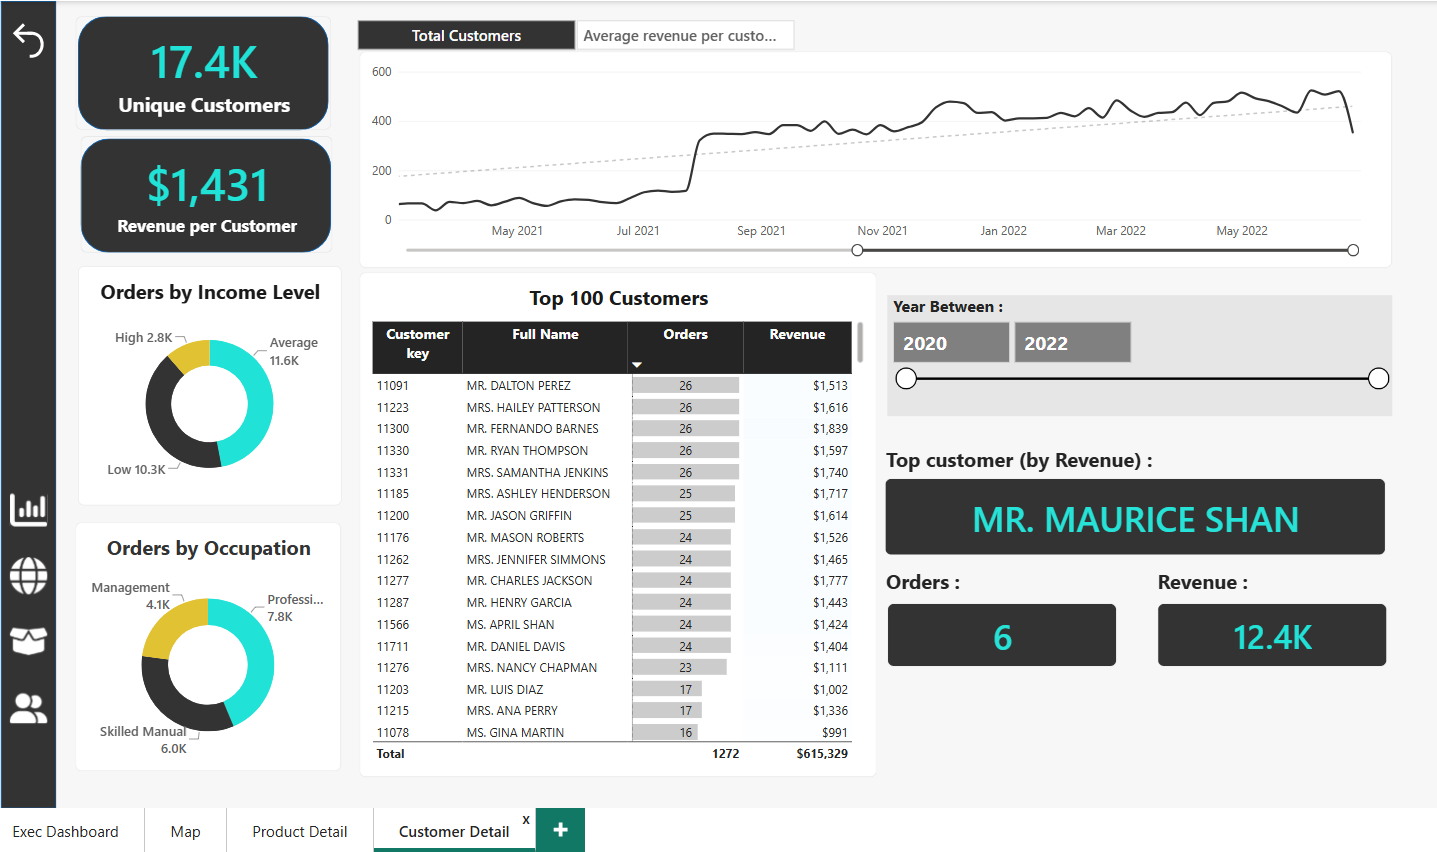

What the dashboard file says about the page in this screenshot:
{"tool":"powerbi","page":{"name":"Customer Detail","canvas":[1920,1080],"ordinal":3},"visuals":[{"type":"shape","box":[102.5,20,335,152.5],"z":0},{"type":"actionButton","box":[0,641.3,74.5,78.3],"z":0,"group":"g1"},{"type":"shape","box":[106.4,183.4,335,152.5],"z":1000},{"type":"actionButton","box":[0,817.5,74.5,78.3],"z":1000,"group":"g1"},{"type":"cardVisual","fields":{"Data":[" Measures_Table.Total Customers"]},"box":[100,20,342.5,152.5],"z":2000},{"type":"actionButton","box":[0,729.4,74.5,78.3],"z":2000,"group":"g1"},{"type":"cardVisual","fields":{"Data":[" Measures_Table.Average revenue per customer"]},"box":[106.2,180.8,337.3,156.5],"z":3000},{"type":"actionButton","box":[0,905.6,74.5,78.3],"z":3000,"group":"g1"},{"type":"shape","title":"Left Nav Pannel","box":[0,0,74,1080],"z":4000},{"type":"lineChart","title":"Weekly Customers","fields":{"Category":["Calendar Lookup.Start of week","Calendar Lookup.Date Hierarchy.Start of year","Calendar Lookup.Date Hierarchy.Start of month","Calendar Lookup.Date Hierarchy.Start of week","Calendar Lookup.Date Hierarchy.Date"],"Y":[" Measures_Table.Average revenue per customer"]},"box":[478.9,67.1,1380.8,288.8],"z":5000},{"type":"donutChart","title":"Orders by Income Level","fields":{"Category":["Customer Lookup.Income Level"],"Y":[" Measures_Table.Total Orders"]},"box":[102.5,355,352.5,320],"z":6000},{"type":"donutChart","title":"Orders by Occupation ","fields":{"Category":["Customer Lookup.Occupation"],"Y":[" Measures_Table.Total Orders"]},"box":[100,697.5,355,332.5],"z":7000},{"type":"tableEx","title":"Top 100 Customers","fields":{"Values":["Customer Lookup.CustomerKey","Customer Lookup.Customer full name (CC)"," Measures_Table.Total Orders"," Measures_Table.Total Revenue"]},"box":[478.9,363.4,691.3,674.6],"z":8000},{"type":"cardVisual","fields":{"Data":[" Measures_Table.Full_name (Customer_detail)"]},"box":[1181.2,637.8,670.9,103.4],"z":9000},{"type":"cardVisual","fields":{"Data":[" Measures_Table.Total orders (Customer Detail)"]},"box":[1185.2,805,307.5,85.7],"z":10000},{"type":"cardVisual","fields":{"Data":[" Measures_Table.Total Revenue (Customer Detail)"]},"box":[1546.7,805,307.5,85.7],"z":11000},{"type":"textbox","box":[1183.3,594.4,389.5,70.8],"z":12000},{"type":"textbox","box":[1183.3,757.5,227.3,70.8],"z":13000},{"type":"textbox","box":[1546.2,757.9,198.4,69.9],"z":14000},{"type":"slicer","fields":{"Values":["Calendar Lookup.Year"]},"box":[1185.2,393.2,674.6,160.6],"z":15000},{"type":"actionButton","box":[0,0,74.5,106.2],"z":17000},{"type":"group","id":"g1","title":"Page Navigations","box":[0,641.3,74.5,342.6],"z":18000},{"type":"slicer","fields":{"Values":["Customer Metric Selection.Customer Metric Selection"]},"box":[456.6,24.2,624.3,42.9],"z":20000}]}

Visuals, with their boxes on the page's 1920x1080 design canvas (x1, y1, x2, y2). These are canvas units, not pixel positions in the 1437x852 screenshot, which may show the page scaled, cropped or inside an application window:
shape: [left=102, top=20, right=438, bottom=172]
actionButton: [left=0, top=641, right=74, bottom=720]
shape: [left=106, top=183, right=441, bottom=336]
actionButton: [left=0, top=818, right=74, bottom=896]
cardVisual -  Measures_Table.Total Customers: [left=100, top=20, right=442, bottom=172]
actionButton: [left=0, top=729, right=74, bottom=808]
cardVisual -  Measures_Table.Average revenue per customer: [left=106, top=181, right=444, bottom=337]
actionButton: [left=0, top=906, right=74, bottom=984]
"Left Nav Pannel" shape: [left=0, top=0, right=74, bottom=1080]
"Weekly Customers" lineChart: [left=479, top=67, right=1860, bottom=356]
"Orders by Income Level" donutChart: [left=102, top=355, right=455, bottom=675]
"Orders by Occupation " donutChart: [left=100, top=698, right=455, bottom=1030]
"Top 100 Customers" tableEx: [left=479, top=363, right=1170, bottom=1038]
cardVisual -  Measures_Table.Full_name (Customer_detail): [left=1181, top=638, right=1852, bottom=741]
cardVisual -  Measures_Table.Total orders (Customer Detail): [left=1185, top=805, right=1493, bottom=891]
cardVisual -  Measures_Table.Total Revenue (Customer Detail): [left=1547, top=805, right=1854, bottom=891]
textbox: [left=1183, top=594, right=1573, bottom=665]
textbox: [left=1183, top=758, right=1411, bottom=828]
textbox: [left=1546, top=758, right=1745, bottom=828]
slicer - Calendar Lookup.Year: [left=1185, top=393, right=1860, bottom=554]
actionButton: [left=0, top=0, right=74, bottom=106]
"Page Navigations" group: [left=0, top=641, right=74, bottom=984]
slicer - Customer Metric Selection.Customer Metric Selection: [left=457, top=24, right=1081, bottom=67]
